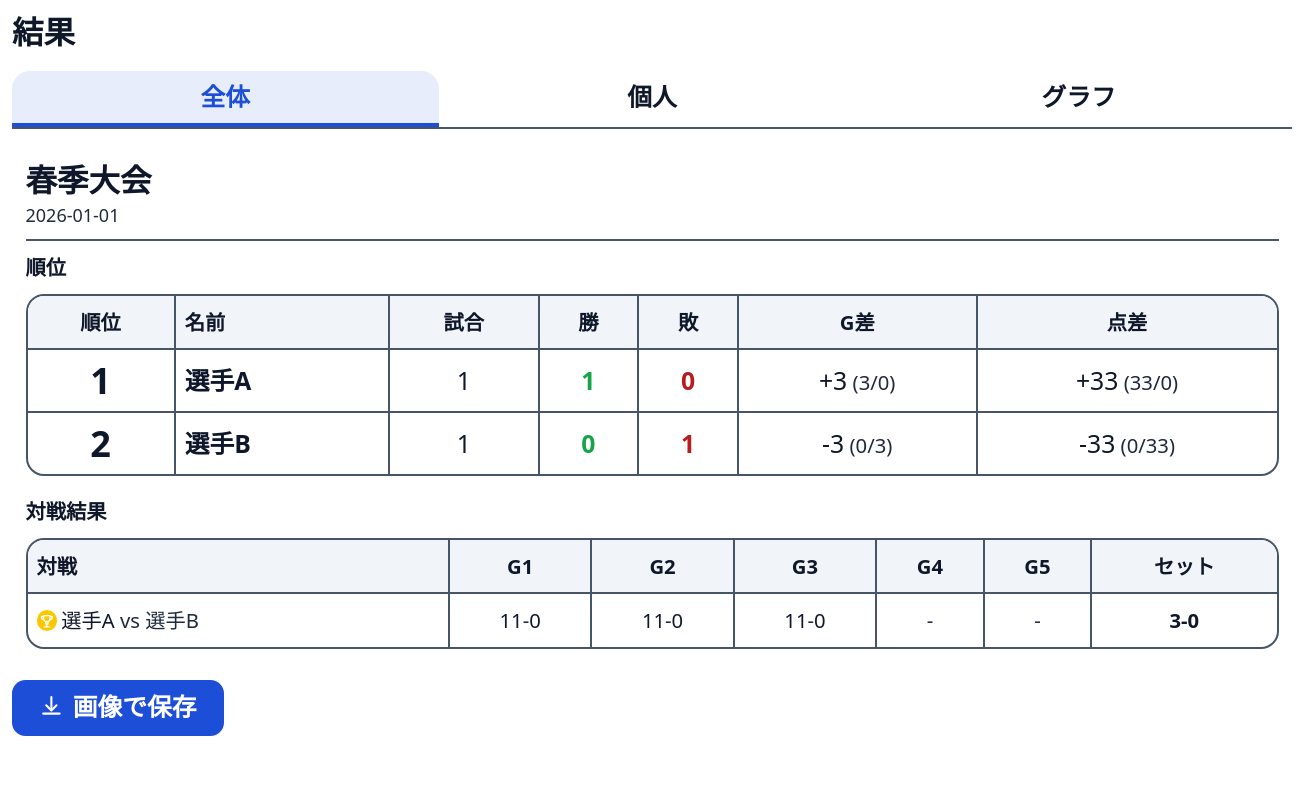
Scenario: ResultTab › 「グラフ」タブクリック → graphMatches なし → 「対戦結果がありません。」
Click the tab "グラフ".
click(1079, 99)  # box [865, 71, 1292, 127]
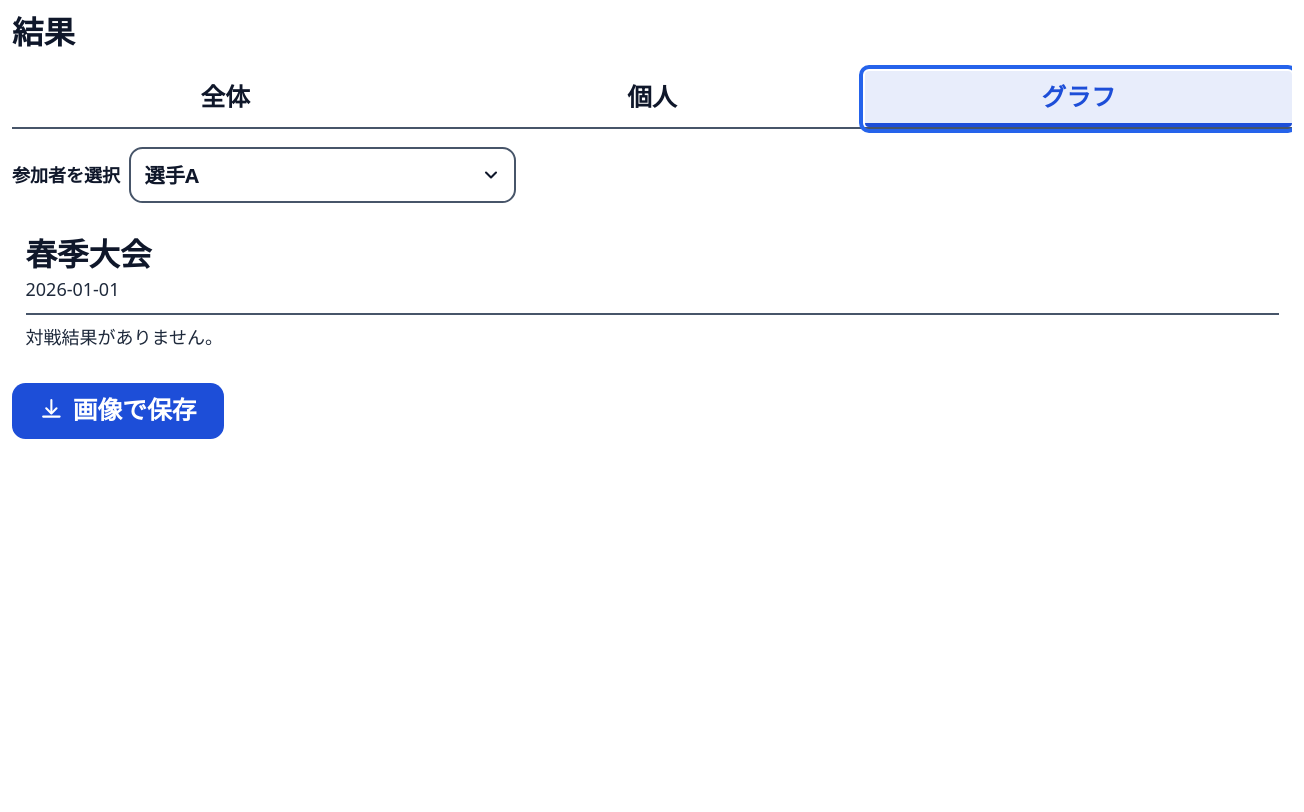
Now the text "対戦結果がありません。" is shown, box [26, 325, 223, 349]
